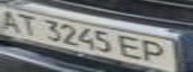2: (57, 21, 78, 47)
3: (36, 16, 63, 44)
4: (75, 25, 96, 51)
5: (93, 28, 118, 55)
A: (0, 7, 27, 34)
E: (115, 34, 148, 61)
P: (136, 38, 175, 65)
T: (12, 10, 42, 37)
